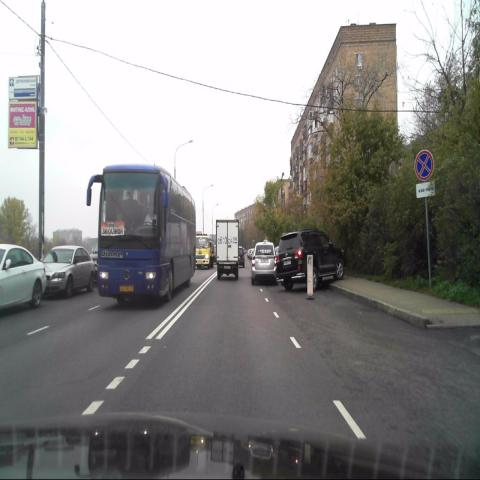3_27: (414, 147, 434, 181)
8_5_4: (415, 181, 435, 198)
